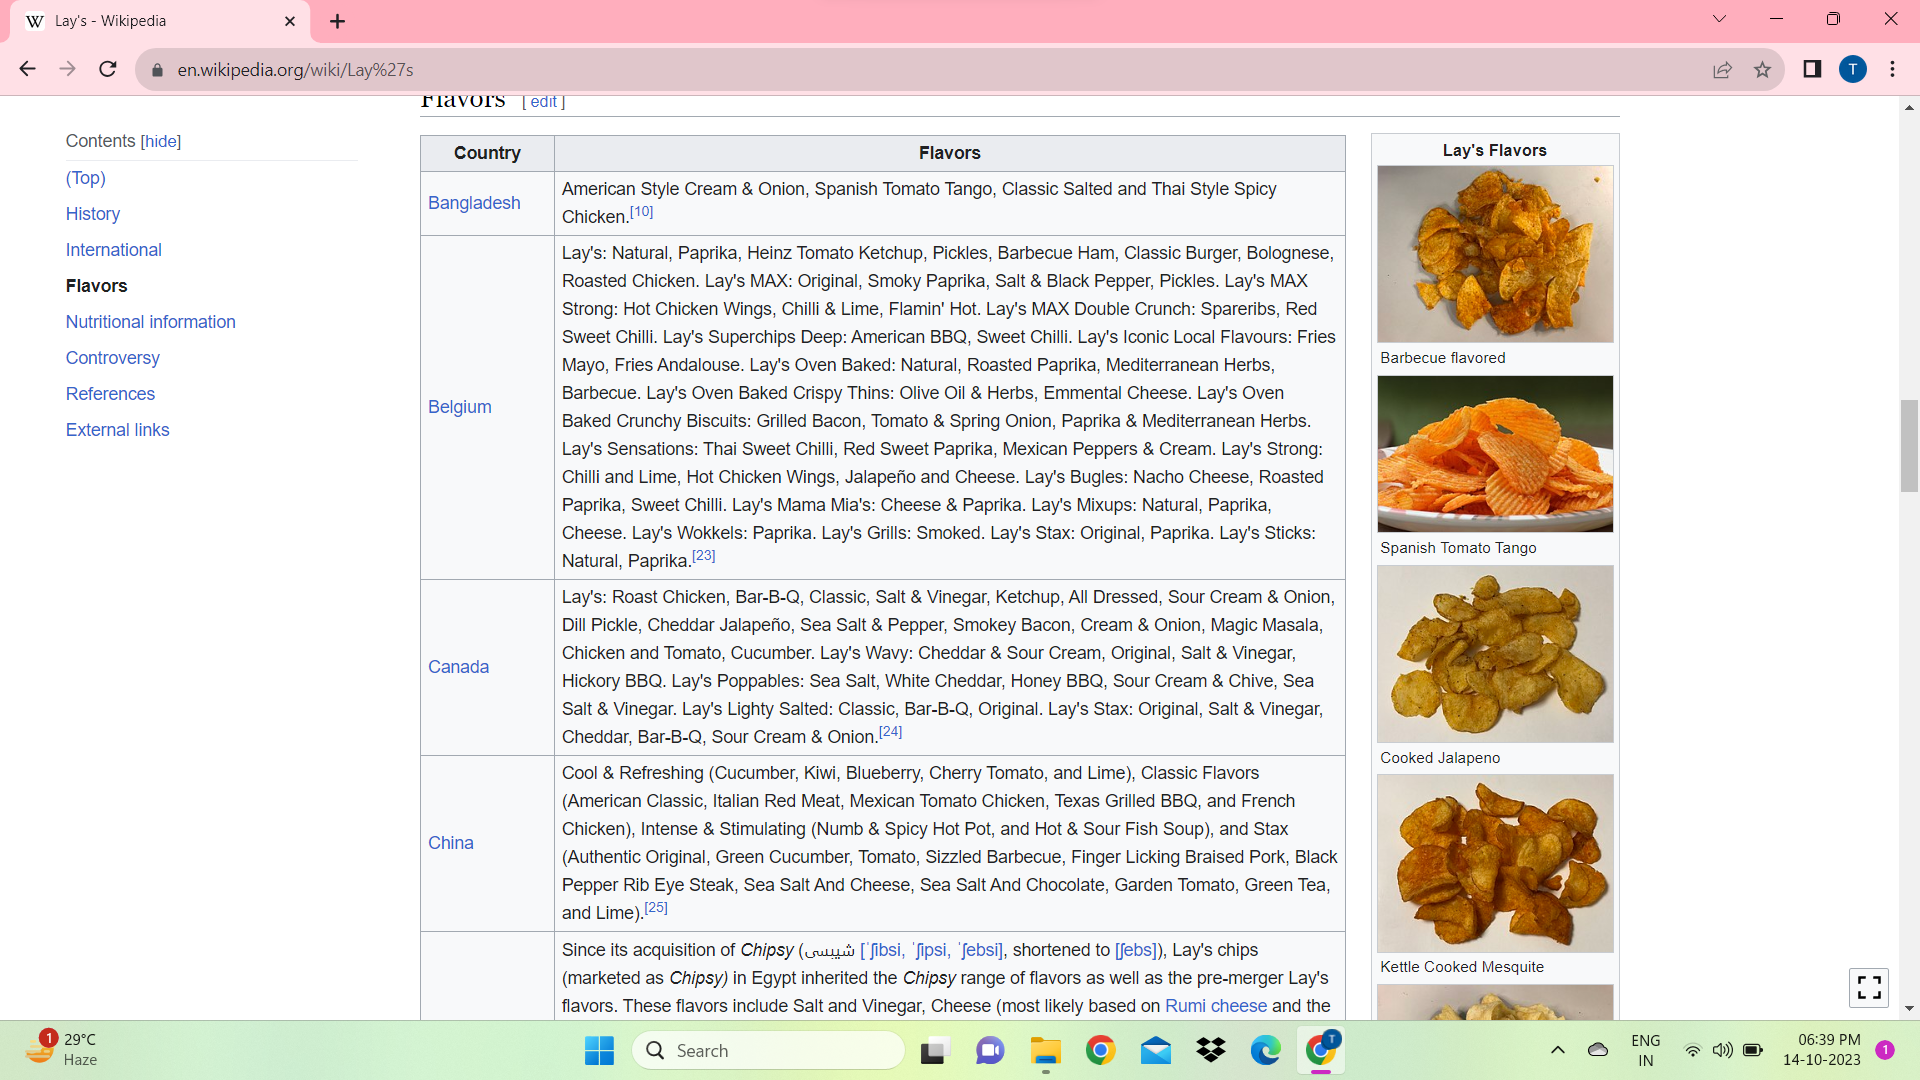Image: (1374, 145, 1629, 349), (1353, 770, 1618, 953), (1370, 556, 1621, 744), (1367, 364, 1625, 533)
Paragraph: (526, 235, 1327, 570), (549, 576, 1331, 756), (543, 761, 1340, 919), (543, 934, 1353, 1022), (559, 170, 1305, 235), (430, 123, 546, 179), (62, 305, 244, 335), (50, 125, 207, 160), (58, 410, 179, 448), (414, 376, 506, 425), (418, 190, 526, 220), (58, 377, 157, 410), (906, 133, 997, 169), (61, 345, 177, 373), (58, 237, 177, 264), (417, 651, 505, 686), (425, 811, 485, 858), (62, 199, 145, 223), (57, 274, 133, 298), (67, 164, 123, 193)
